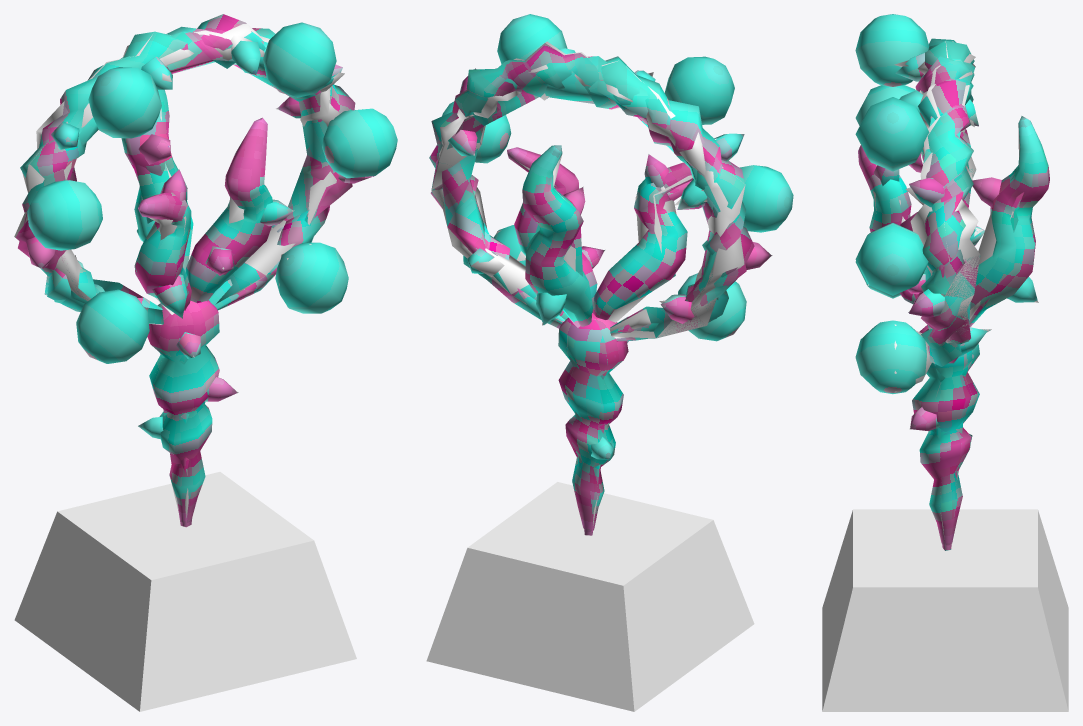
File: objects_un_t04artobj01_pink.gltf
3 renders of one model, left to right at view 1: azimuth 30°, elevation 25°; view 2: azimuth 150°, elevation 25°; view 3: azimuth 270°, elevation 25°, orthographic. The views are drawn at different scales.
Parts seen in each view (by area): view 1: um_objects_un_t04artobj01_pink_model_lod0Shape:objects_un_t0 (×3), um_objects_un_t04artobj01_pink_model_lod2Shape:objects_un_t0; view 2: um_objects_un_t04artobj01_pink_model_lod0Shape:objects_un_t0 (×3), um_objects_un_t04artobj01_pink_model_lod2Shape:objects_un_t0; view 3: um_objects_un_t04artobj01_pink_model_lod0Shape:objects_un_t0 (×3), um_objects_un_t04artobj01_pink_model_lod2Shape:objects_un_t0, um_objects_un_t04artobj01_pink_model_lod1Shape:objects_un_t0.
Part boxes in pixels (x1,y1,x2,y2): um_objects_un_t04artobj01_pink_model_lod0Shape:objects_un_t0 (×3): (14, 14, 397, 711); um_objects_un_t04artobj01_pink_model_lod2Shape:objects_un_t0: (18, 31, 327, 527); um_objects_un_t04artobj01_pink_model_lod0Shape:objects_un_t0 (×3): (426, 14, 793, 711); um_objects_un_t04artobj01_pink_model_lod2Shape:objects_un_t0: (442, 56, 746, 535); um_objects_un_t04artobj01_pink_model_lod0Shape:objects_un_t0 (×3): (822, 14, 1068, 711); um_objects_un_t04artobj01_pink_model_lod2Shape:objects_un_t0: (915, 55, 1023, 550); um_objects_un_t04artobj01_pink_model_lod1Shape:objects_un_t0: (908, 169, 990, 344).
Bounding box in the file's own units: 1.11 × 1.81 × 0.6667.
3 materials, 1 textured.
